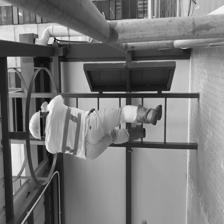Feet: (134, 100, 165, 120), (115, 127, 158, 137)
Hand: (43, 88, 73, 109)
Ladder: (0, 96, 208, 154)
